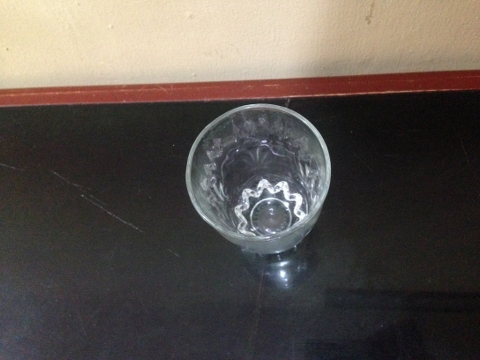tempat minum: (185, 103, 331, 254)
